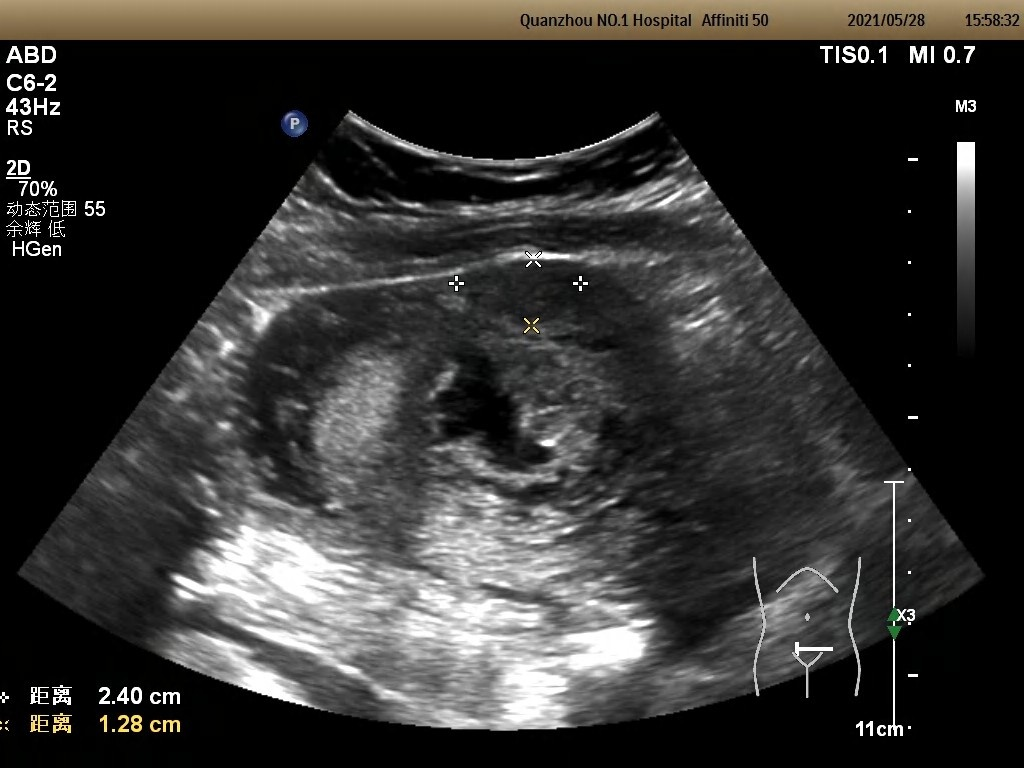肌瘤: (475, 265, 581, 318)
